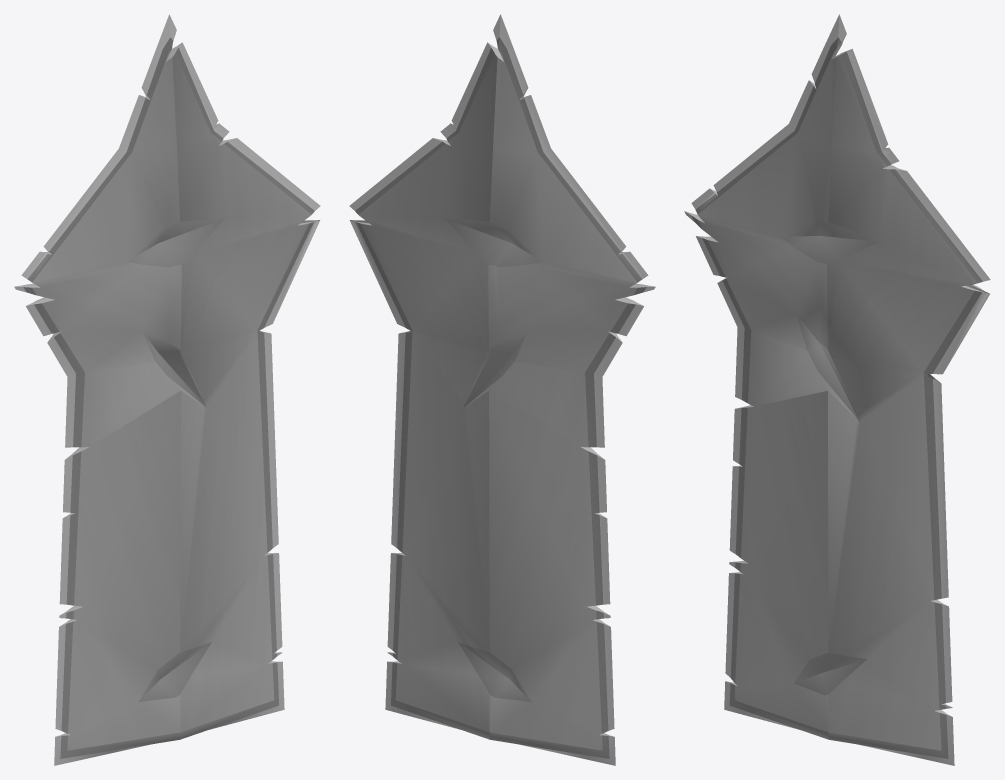
The model's file is stone_blade_scratched_047.glb.
The picture shows the model from 3 angles, left to right: view 1: azimuth 30°, elevation 25°; view 2: azimuth 150°, elevation 25°; view 3: azimuth 330°, elevation 25°; orthographic projection.
Parts seen in each view (by area): view 1: stone_blade_scratched.047; view 2: stone_blade_scratched.047; view 3: stone_blade_scratched.047.
Part boxes in pixels (x1,y1,x2,y2): stone_blade_scratched.047: (14,14,320,765); stone_blade_scratched.047: (349,14,655,765); stone_blade_scratched.047: (684,14,990,765).
Bounding box in the file's own units: 5.19 × 11.76 × 0.723.
Materials: 1 (1 with a texture image).
